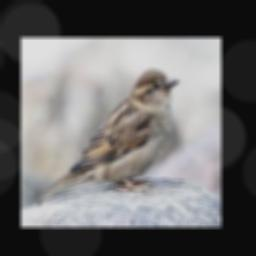Sparrow: (34, 68, 178, 205)
